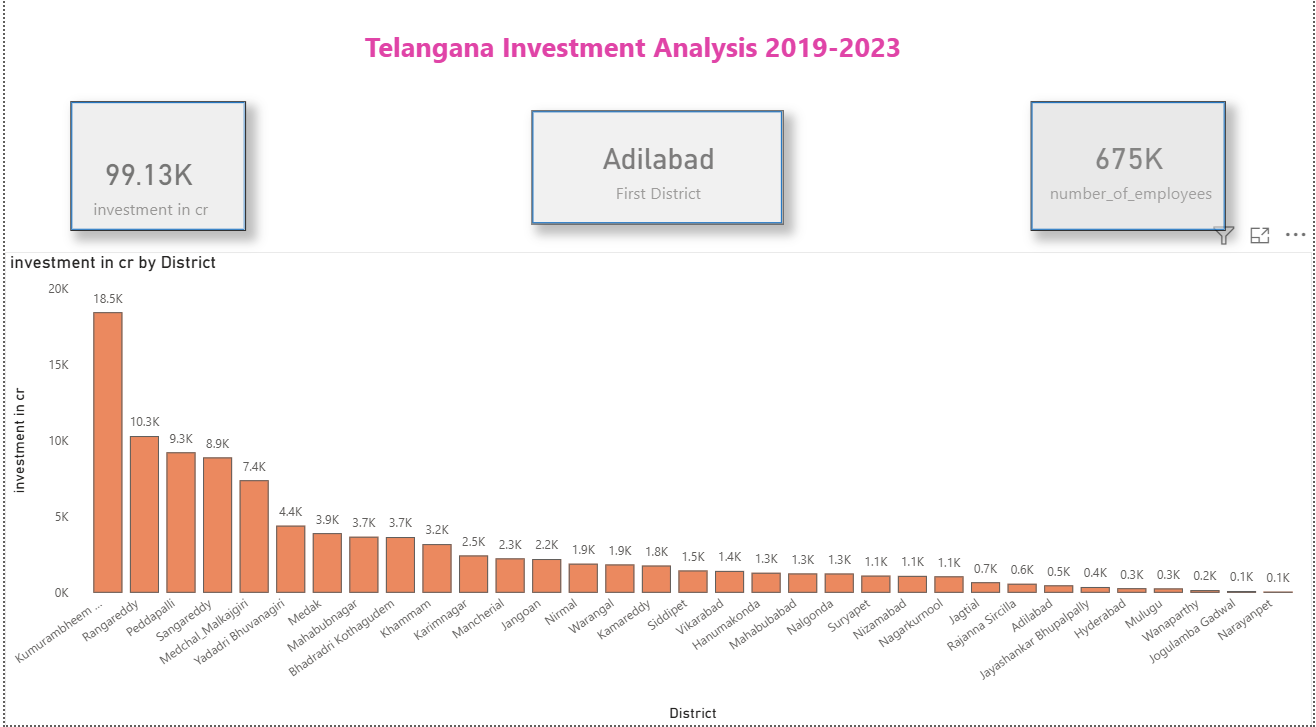

The dashboard page shown, as its layout file describes it:
{"tool":"powerbi","page":{"name":"Page 1","canvas":[1280,720],"ordinal":0},"visuals":[{"type":"card","fields":{"Values":["Sum(fact_TS_iPASS.investment in cr)"]},"box":[0,48.9,280.2,280.2],"z":0},{"type":"card","fields":{"Values":["Sum(fact_TS_iPASS.number_of_employees)"]},"box":[1003.7,109.7,191.3,127.5],"z":1000},{"type":"clusteredColumnChart","fields":{"Category":["fact_TS_iPASS.District"],"Y":["Sum(fact_TS_iPASS.investment in cr)"]},"box":[0,256.5,1279.5,464],"z":2000},{"type":"textbox","box":[280.8,30.8,637.3,79.5],"z":3000},{"type":"shape","box":[64.1,109,171.8,126.9],"z":4000},{"type":"shape","box":[1004,109,191,126.9],"z":5000},{"type":"card","fields":{"Values":["Min(fact_TS_iPASS.District)"]},"box":[515.4,118,247.5,111.6],"z":6000},{"type":"shape","box":[515.4,118,246.2,111.6],"z":7000}]}

Visuals, with their boxes in screenshot pixels (x1, y1, x2, y2), scaled from the page's 1280x720 canvas onto the 1316x727 screenshot:
card - Sum(fact_TS_iPASS.investment in cr): left=0, top=49, right=288, bottom=332
card - Sum(fact_TS_iPASS.number_of_employees): left=1032, top=111, right=1229, bottom=240
clusteredColumnChart - fact_TS_iPASS.District x Sum(fact_TS_iPASS.investment in cr): left=0, top=259, right=1315, bottom=726
textbox: left=289, top=31, right=944, bottom=111
shape: left=66, top=110, right=243, bottom=238
shape: left=1032, top=110, right=1229, bottom=238
card - Min(fact_TS_iPASS.District): left=530, top=119, right=784, bottom=232
shape: left=530, top=119, right=783, bottom=232
